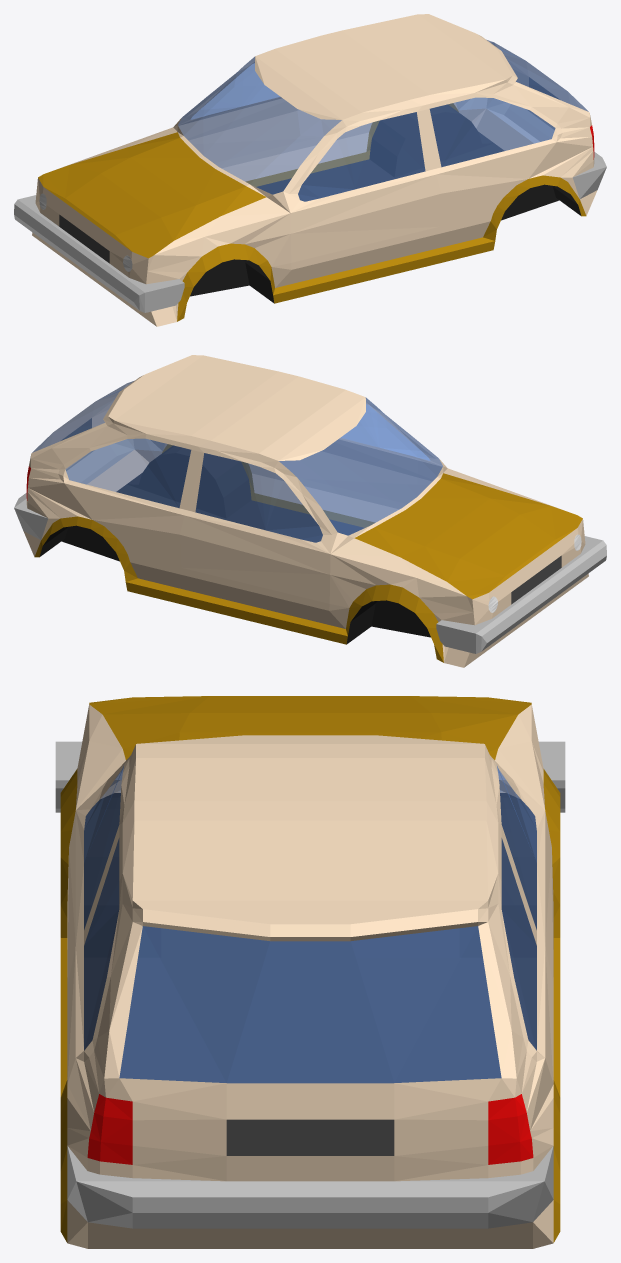
The model's file is Vee Wagon.fbx.
3 views of the same model, one above another, from view 1: azimuth 30°, elevation 25°; view 2: azimuth 150°, elevation 25°; view 3: azimuth 270°, elevation 25° (orthographic). The views are drawn at different scales.
Visible parts, largest first — view 1: _(Loose Entity); view 2: _(Loose Entity); view 3: _(Loose Entity).
Boxes of the visible parts, box(x1,y1,x2,y2) form: _(Loose Entity): box(14, 14, 606, 326); _(Loose Entity): box(14, 355, 606, 667); _(Loose Entity): box(55, 696, 565, 1248).
Size of the model in its own units: 834 by 252 by 380.
